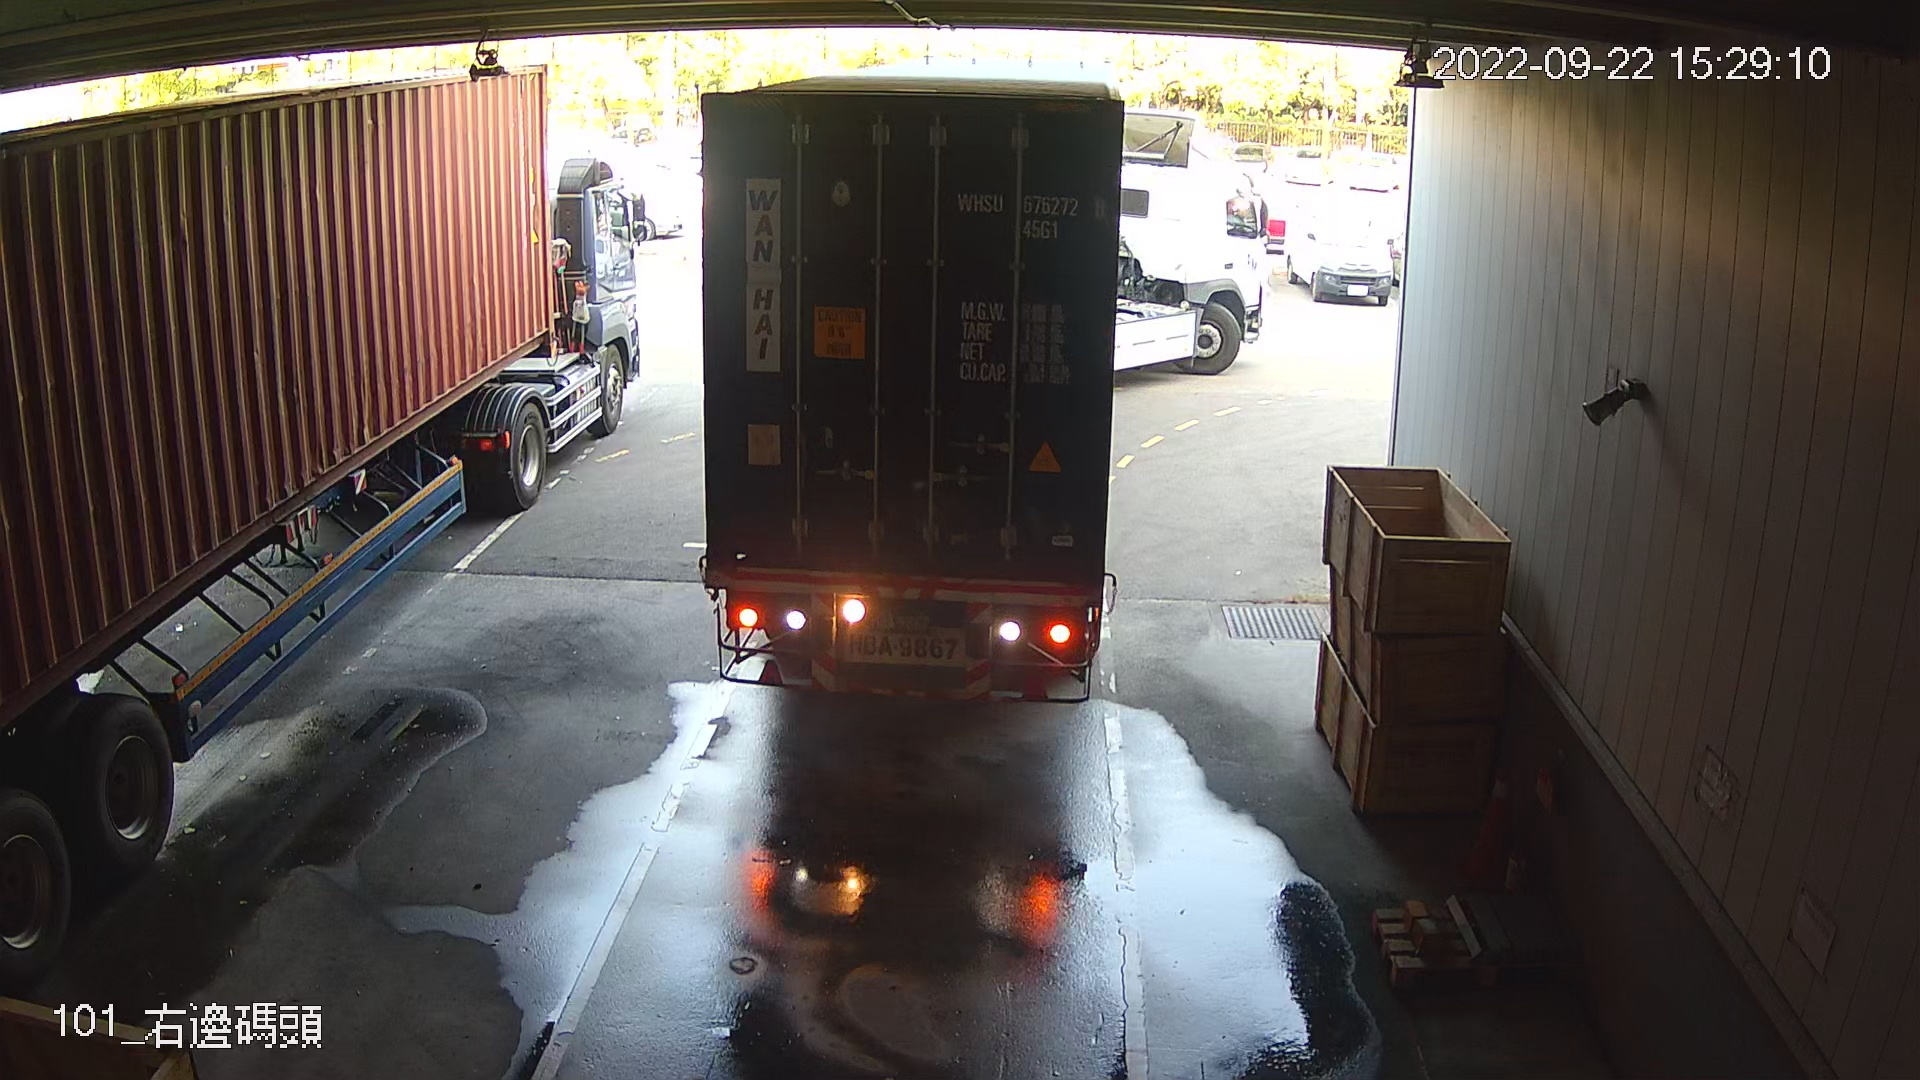container: (945, 182, 1112, 247)
